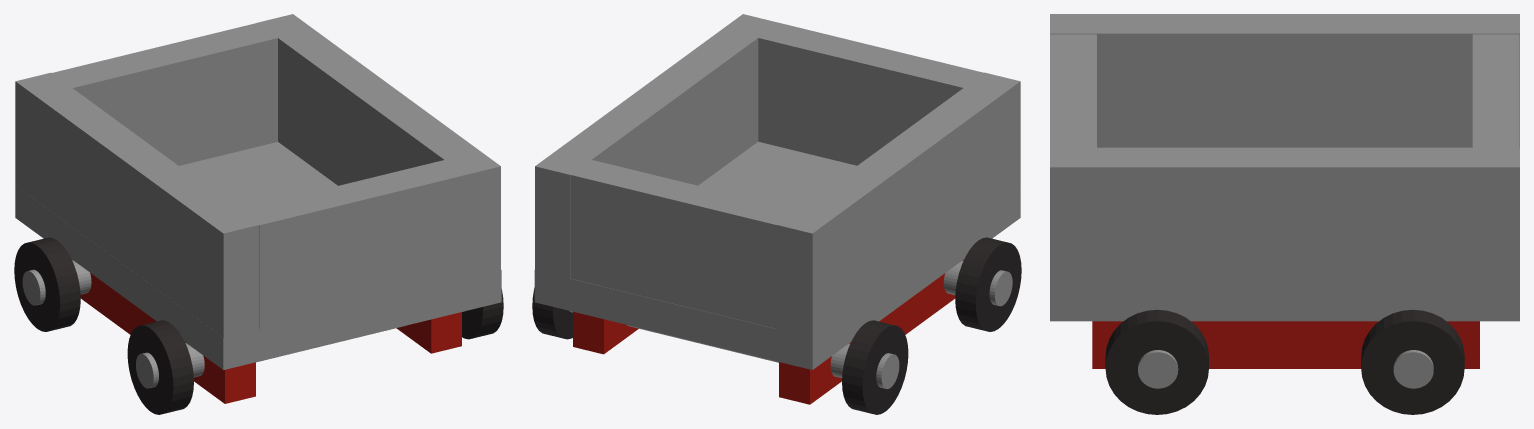
The model's file is telega.fbx.
3 views of the same model, side by side, from view 1: azimuth 30°, elevation 25°; view 2: azimuth 150°, elevation 25°; view 3: azimuth 270°, elevation 25° (orthographic). The views are drawn at different scales.
Visible parts, largest first — view 1: Цилиндр.005; view 2: Цилиндр.005; view 3: Цилиндр.005.
Part boxes in pixels (<box>): Цилиндр.005: <box>14,14,503,414</box>; Цилиндр.005: <box>532,14,1021,414</box>; Цилиндр.005: <box>1050,14,1519,414</box>.
Size of the model in its own units: 330 by 192 by 350.
